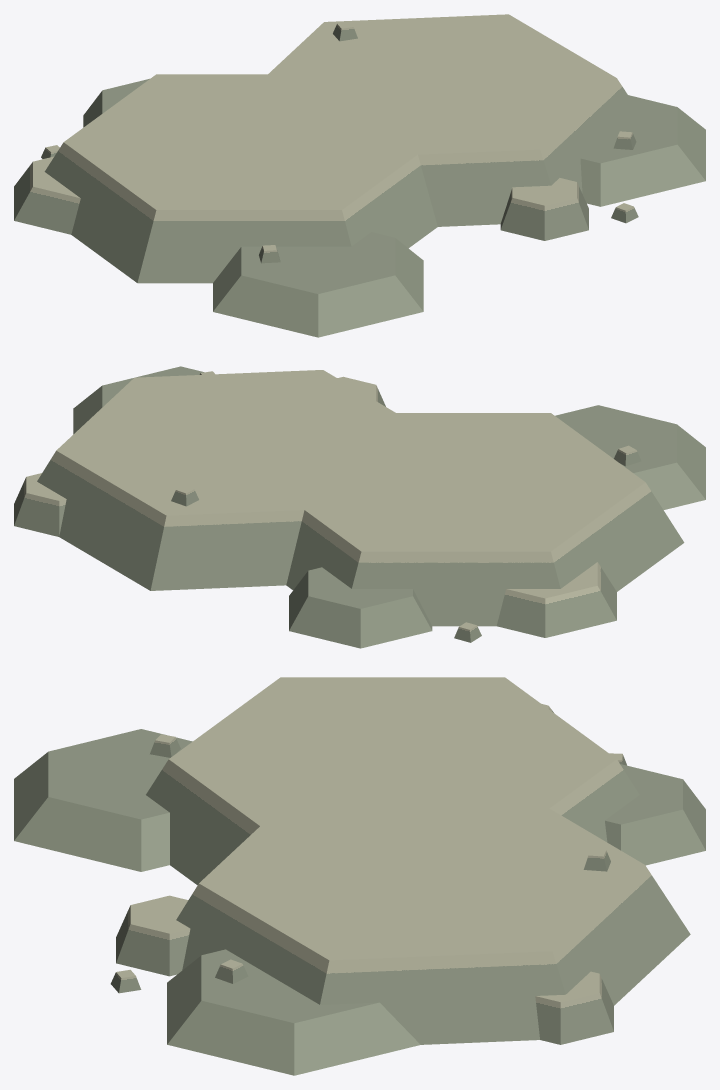
The model's file is river-stones-flat-stone.glb.
3 views of the same model, one above another, from view 1: azimuth 30°, elevation 25°; view 2: azimuth 150°, elevation 25°; view 3: azimuth 270°, elevation 25° (orthographic). The views are drawn at different scales.
Parts seen in each view (by area): view 1: river-stones-flat-stone runtime mesh; view 2: river-stones-flat-stone runtime mesh; view 3: river-stones-flat-stone runtime mesh.
Boxes of the visible parts, box(x1,y1,x2,y2) form: river-stones-flat-stone runtime mesh: box(14, 14, 705, 337); river-stones-flat-stone runtime mesh: box(14, 366, 705, 648); river-stones-flat-stone runtime mesh: box(14, 677, 705, 1075).
Size of the model in its own units: 0.6 by 0.0655 by 0.4863.
Materials: 1 (1 with a texture image).
